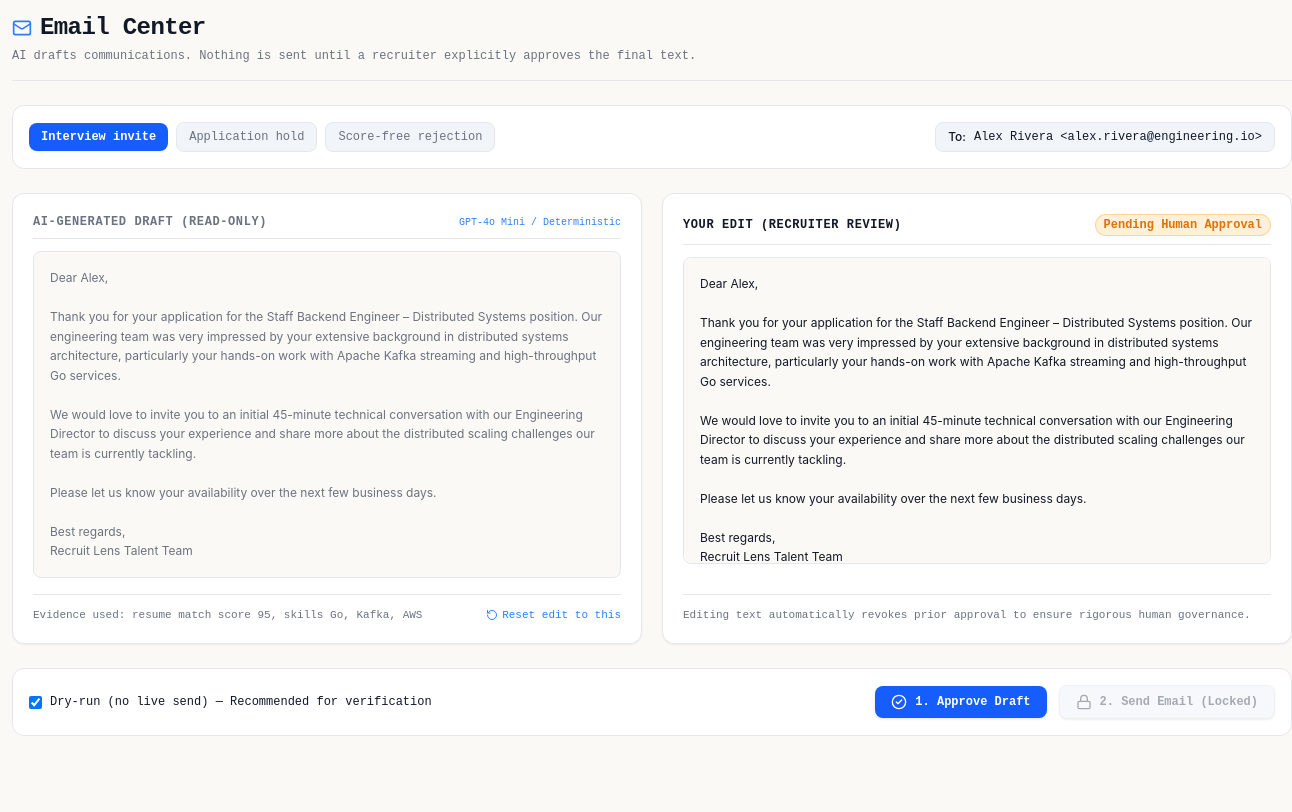
it: Feature 4: Email Two-Step Approval Gate & Score-Free Rejection › enforces two-step human gate: Step 2 Send is locked until Step 1 Approve is clicked; edits revoke approval
Check: the button "2. Send Email (Locked)" is disabled, box [1059,685,1275,719]
Check: the text "2. Send Email (Locked)" is shown, box [1100,694,1258,710]
Note: Click Approve Draft
Click the button "1. Approve Draft" at [961, 702], box [875,686,1046,718]
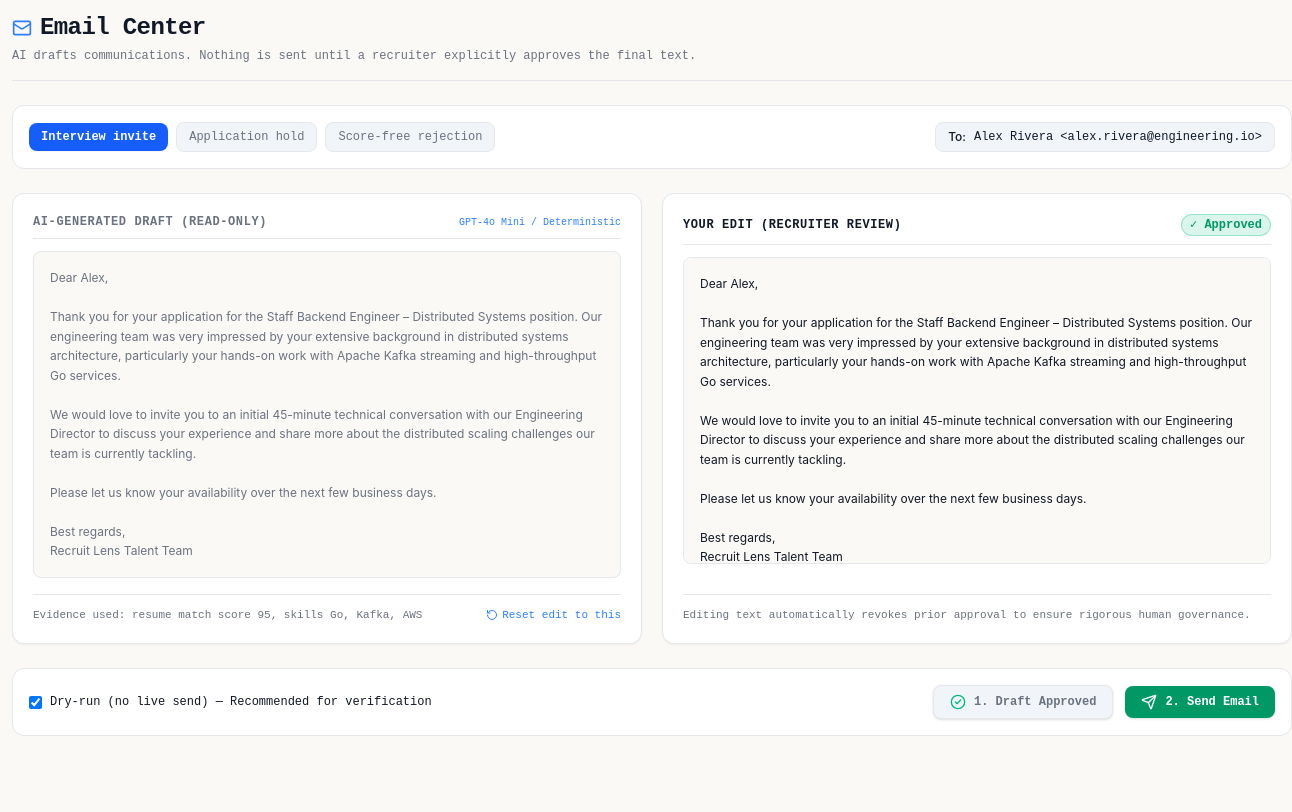
Check: the button "2. Send Email" is enabled, box [1125,686,1275,718]
Check: the text "✓ Approved" is shown, box [1181,214,1271,236]
Replace the text in the text box named "Edit Email Body" with "Modified invitation text." at [977, 410], box [683,257,1271,564]
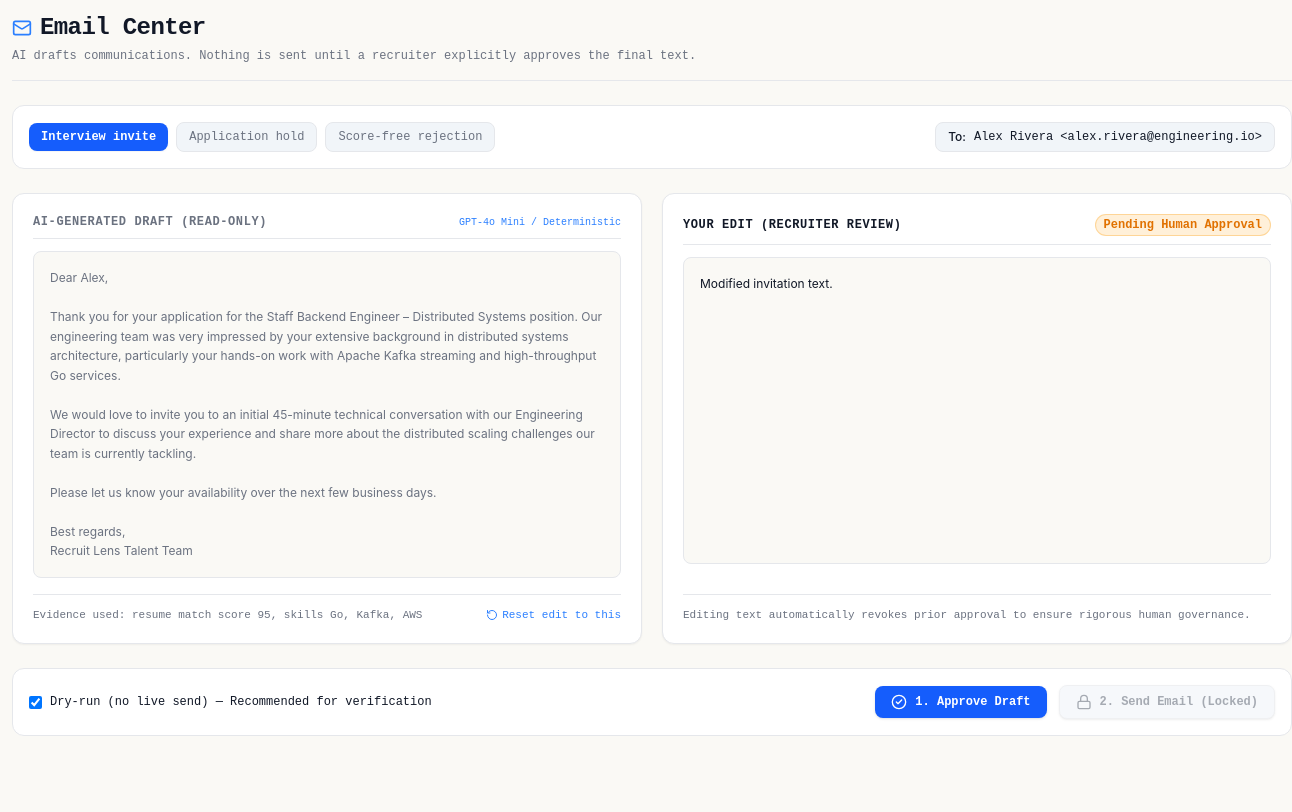
Check: the button "2. Send Email (Locked)" is disabled, box [1059,685,1275,719]
Check: the text "Pending Human Approval" is shown, box [1095,214,1271,236]
